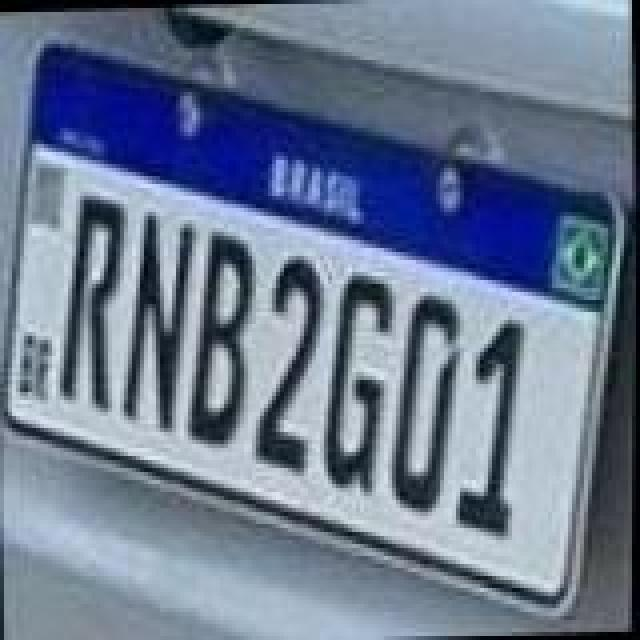1: (444, 312, 532, 540)
2: (246, 250, 334, 470)
B: (178, 226, 262, 446)
D: (378, 292, 470, 516)
G: (314, 268, 402, 496)
N: (112, 204, 200, 432)
R: (48, 186, 136, 414)
